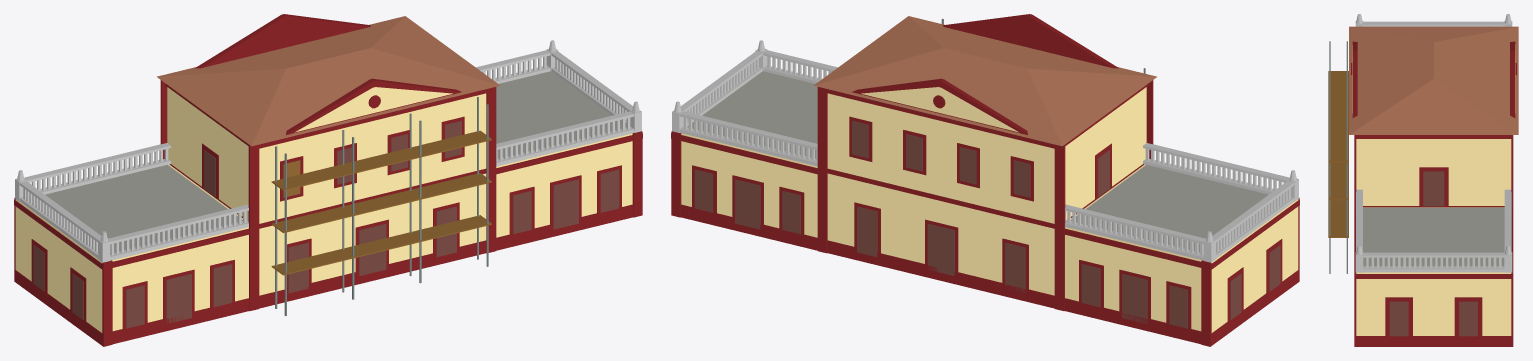
The model's file is SM_EdificioViajerosSagunto_v4_Liberada_LOD0.fbx.
The picture shows the model from 3 angles, left to right: view 1: azimuth 30°, elevation 25°; view 2: azimuth 150°, elevation 25°; view 3: azimuth 270°, elevation 25°; orthographic projection. The views are drawn at different scales.
Parts seen in each view (by area): view 1: SM_edificio_viajeros_sagunto_v4_LOD0; view 2: SM_edificio_viajeros_sagunto_v4_LOD0; view 3: SM_edificio_viajeros_sagunto_v4_LOD0.
Part boxes in pixels (<box>): SM_edificio_viajeros_sagunto_v4_LOD0: <box>14,14,642,346</box>; SM_edificio_viajeros_sagunto_v4_LOD0: <box>671,14,1299,346</box>; SM_edificio_viajeros_sagunto_v4_LOD0: <box>1328,14,1518,346</box>.
Bounding box in the file's own units: 32.12 × 11.4 × 11.
